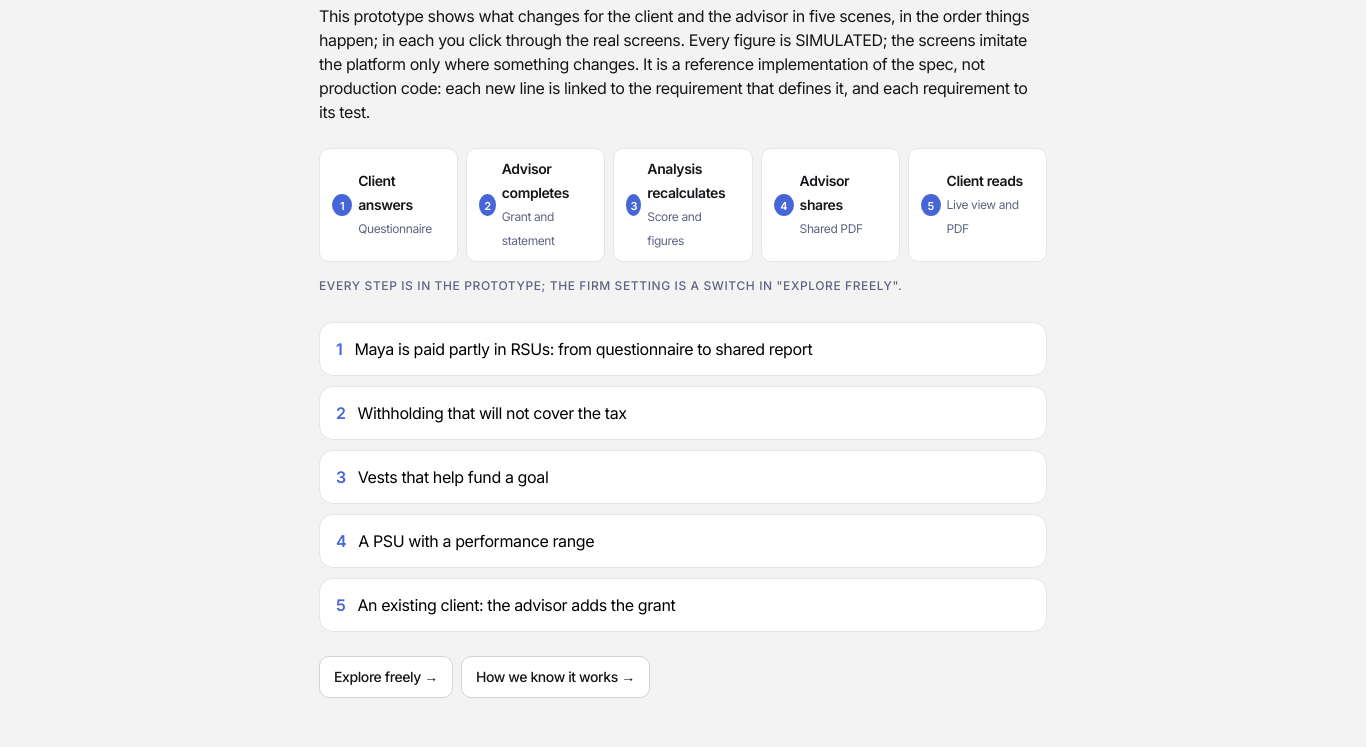
Test case: Start here and the scenes (D-065) › scene 3: a scene that starts complete compares with the household without stock compensation
(page scrolled)
Click the button "3 Vests that help fund a goal": click(453, 477) [319, 450, 1047, 504]
(page scrolled)
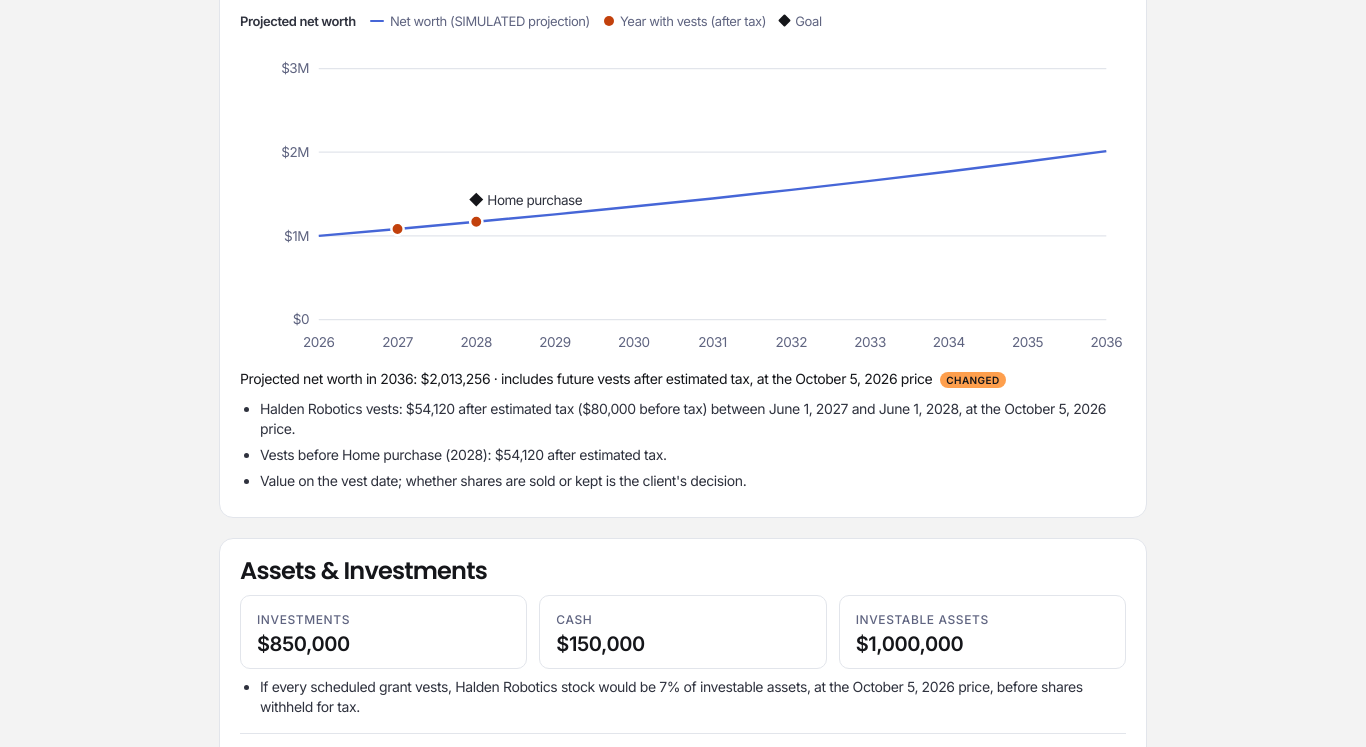
Result: the element named "Projected net worth figure" is shown at [240, 367, 1126, 391]
